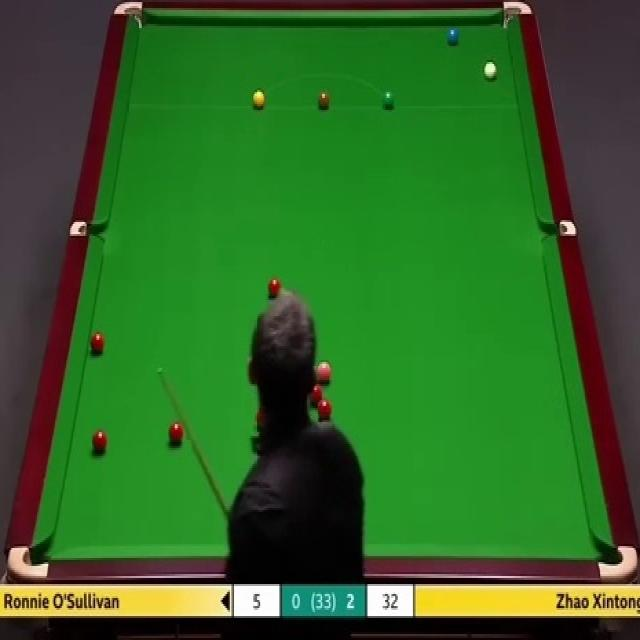blue-ball: (448, 27, 462, 44)
brown-ball: (318, 90, 331, 110)
green-ball: (381, 90, 395, 111)
pink-ball: (316, 359, 332, 384)
red-ball: (168, 420, 184, 446), (90, 330, 106, 354), (317, 396, 332, 421), (91, 429, 108, 450), (310, 380, 326, 402), (267, 278, 282, 300)
white-ball: (483, 61, 499, 82)
yellow-ball: (251, 89, 266, 110)
